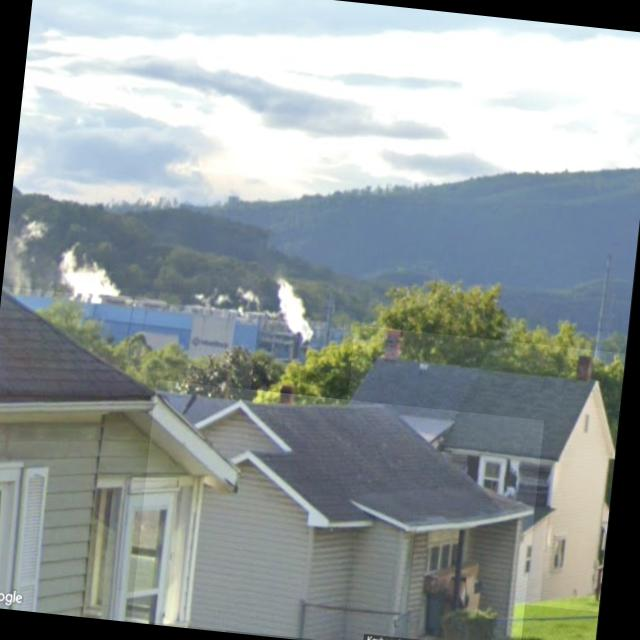House: (130, 379, 543, 640), (0, 285, 258, 631), (328, 324, 626, 612), (0, 274, 355, 377)
